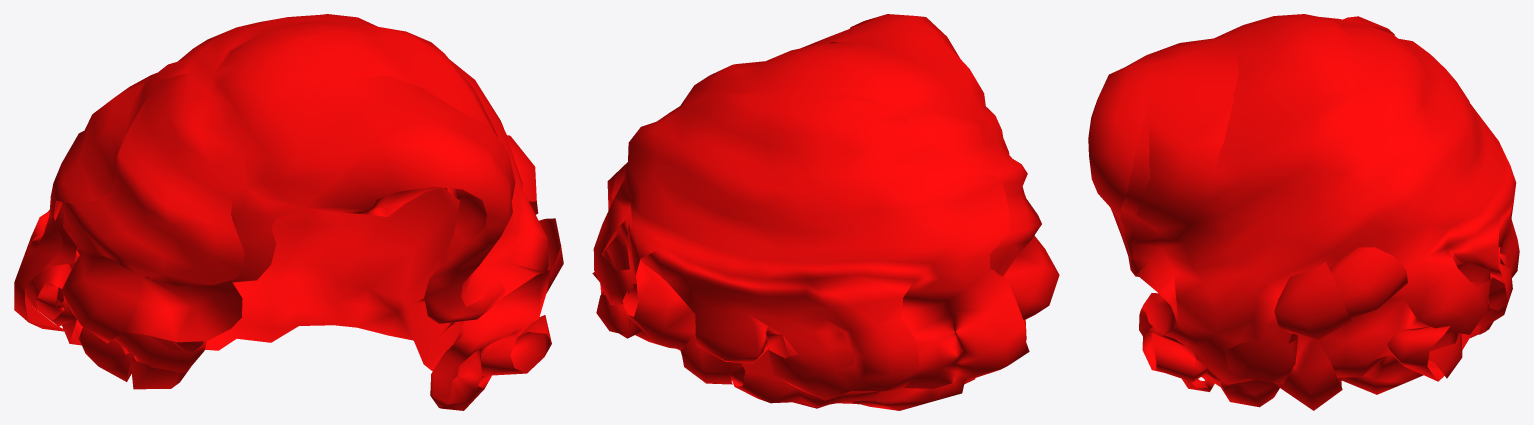
The model's file is elvs_wavy_bob_F.glb.
3 renders of one model, left to right at view 1: azimuth 30°, elevation 25°; view 2: azimuth 150°, elevation 25°; view 3: azimuth 270°, elevation 25°, orthographic. The views are drawn at different scales.
Bounding box in the file's own units: 0.304 × 0.2161 × 0.2651.
Materials: 1 (1 with a texture image).
